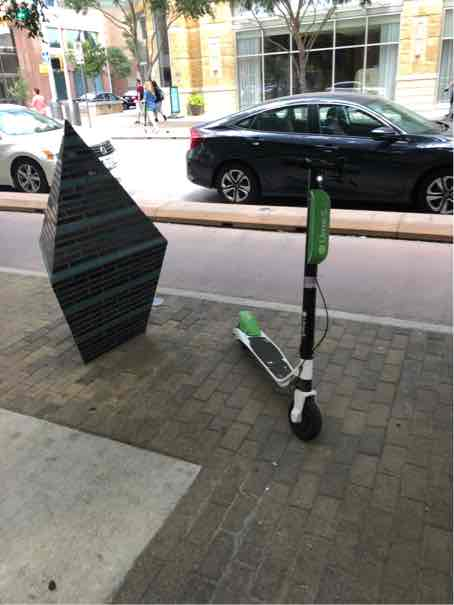scooter: (221, 146, 370, 451)
